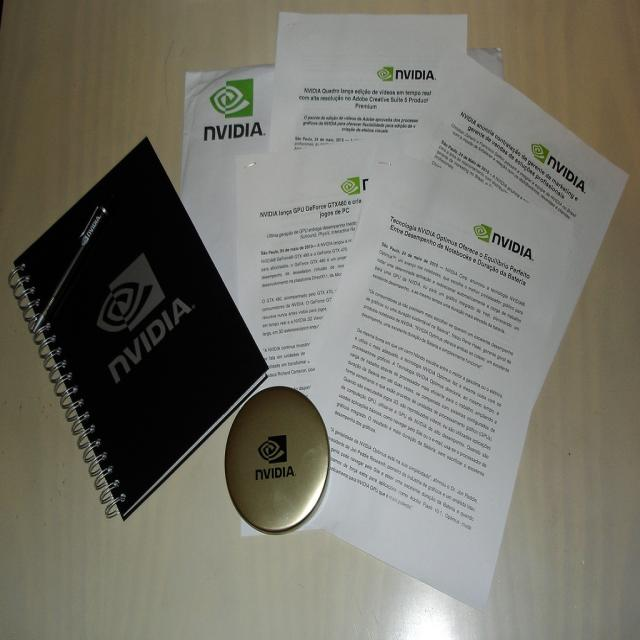nvidia: (96, 253, 168, 332), (210, 80, 255, 119), (259, 435, 289, 466), (531, 141, 551, 164), (474, 223, 494, 244), (342, 178, 361, 196), (379, 68, 396, 82)
